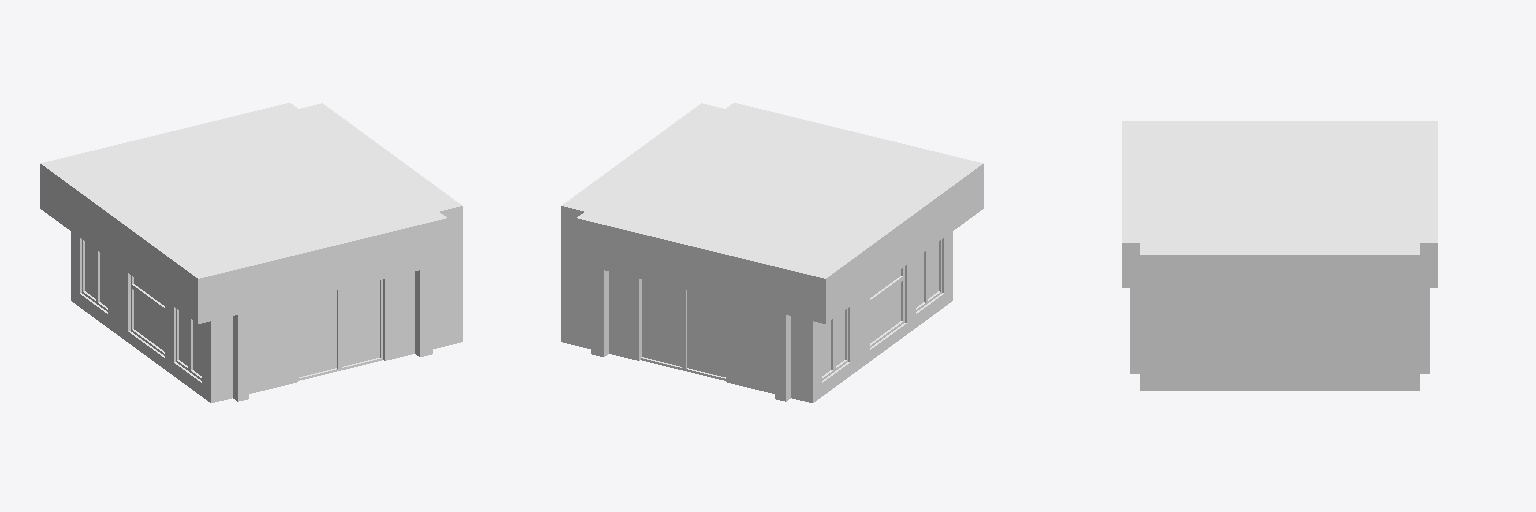
File: Store1.obj
The picture shows the model from 3 angles: view 1: azimuth 30°, elevation 25°; view 2: azimuth 150°, elevation 25°; view 3: azimuth 270°, elevation 25°; orthographic projection.
Parts seen in each view (by area): view 1: Store1; view 2: Store1; view 3: Store1.
Part boxes in pixels (x1,y1,x2,y2): Store1: (40,103,462,402); Store1: (561,103,983,402); Store1: (1122,121,1437,390).
Bounding box in the file's own units: 126 × 60 × 126.